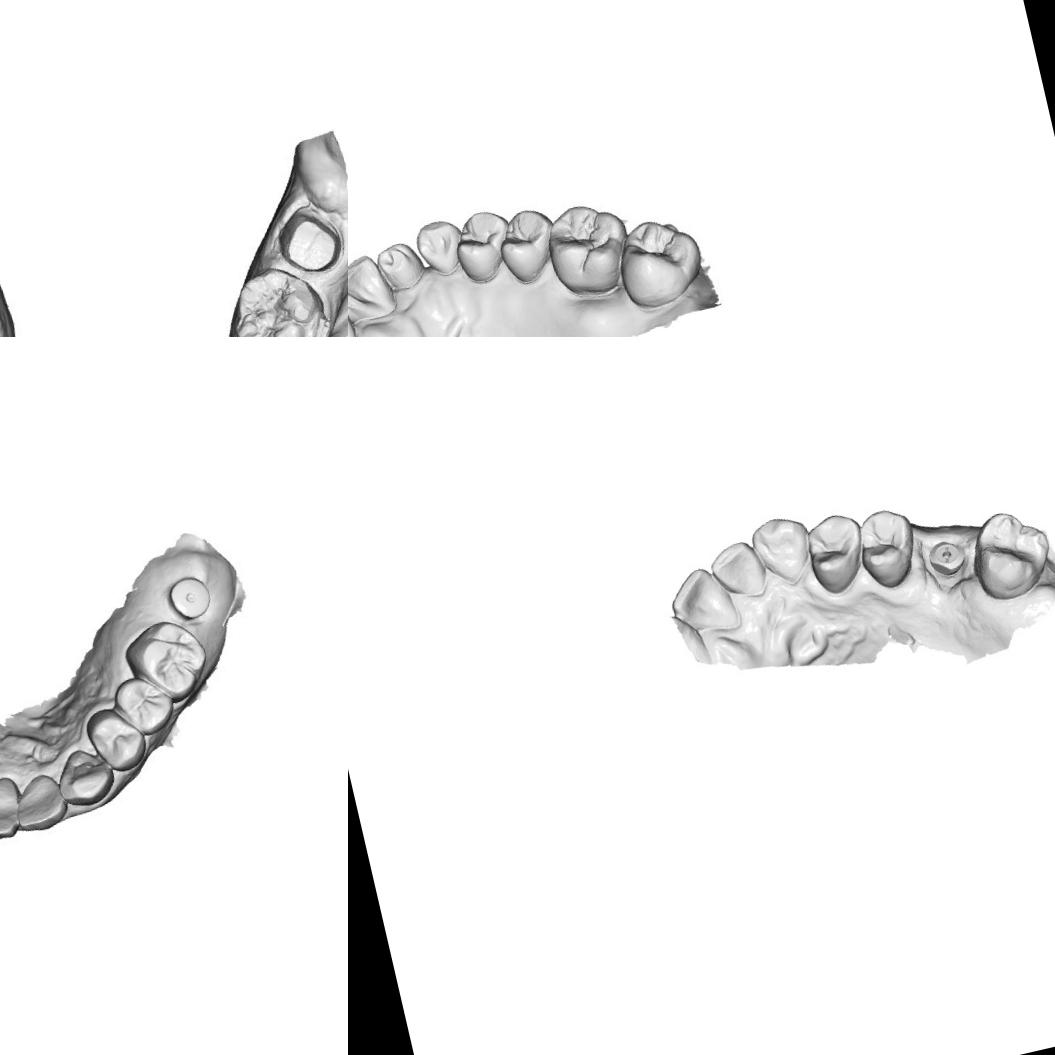canine: (746, 510, 816, 588), (410, 210, 469, 282), (54, 742, 115, 804)
crown: (269, 203, 348, 283)
implant: (162, 570, 216, 629)
implant_minus: (925, 532, 970, 579)
incisor: (664, 561, 741, 643), (702, 533, 770, 605), (348, 248, 397, 330), (373, 233, 427, 296), (12, 771, 67, 829), (0, 778, 26, 849)
molar: (534, 192, 640, 305), (607, 209, 710, 316), (960, 500, 1055, 605), (119, 610, 213, 714), (220, 255, 336, 337)
premolar: (796, 508, 874, 597), (490, 199, 566, 288), (848, 503, 922, 594), (446, 202, 522, 290), (84, 704, 149, 778), (115, 674, 172, 736)
